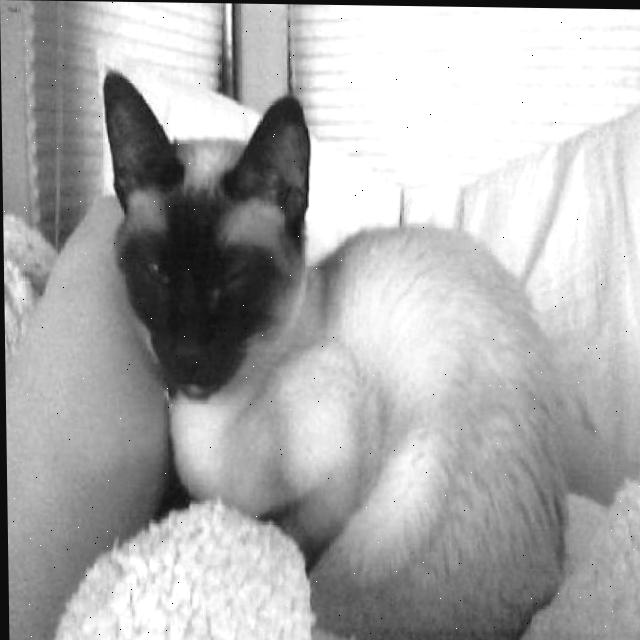Cat: (101, 71, 566, 640)
